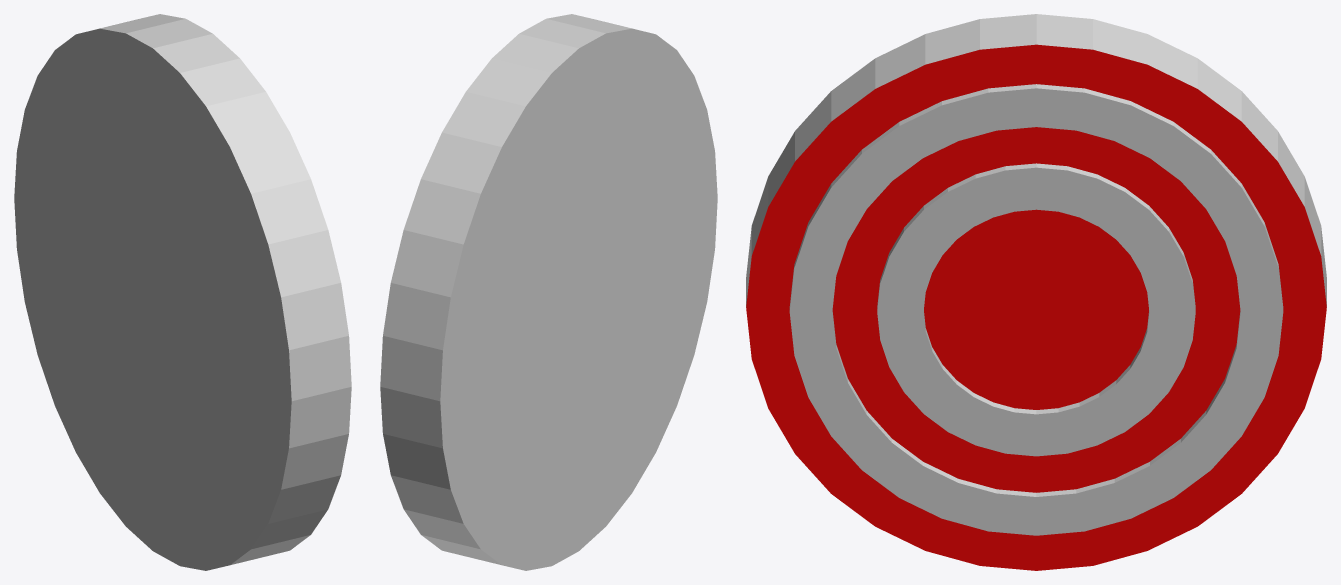
File: SM_Target.fbx
The picture shows the model from 3 angles, left to right: view 1: azimuth 30°, elevation 25°; view 2: azimuth 150°, elevation 25°; view 3: azimuth 270°, elevation 25°; orthographic projection. The views are drawn at different scales.
Parts seen in each view (by area): view 1: Cylinder; view 2: Cylinder; view 3: Cylinder.
Part boxes in pixels (x1,y1,x2,y2): Cylinder: [14, 14, 351, 570]; Cylinder: [380, 14, 717, 570]; Cylinder: [746, 14, 1326, 570].
Size of the model in its own units: 56.9 by 400 by 400.
